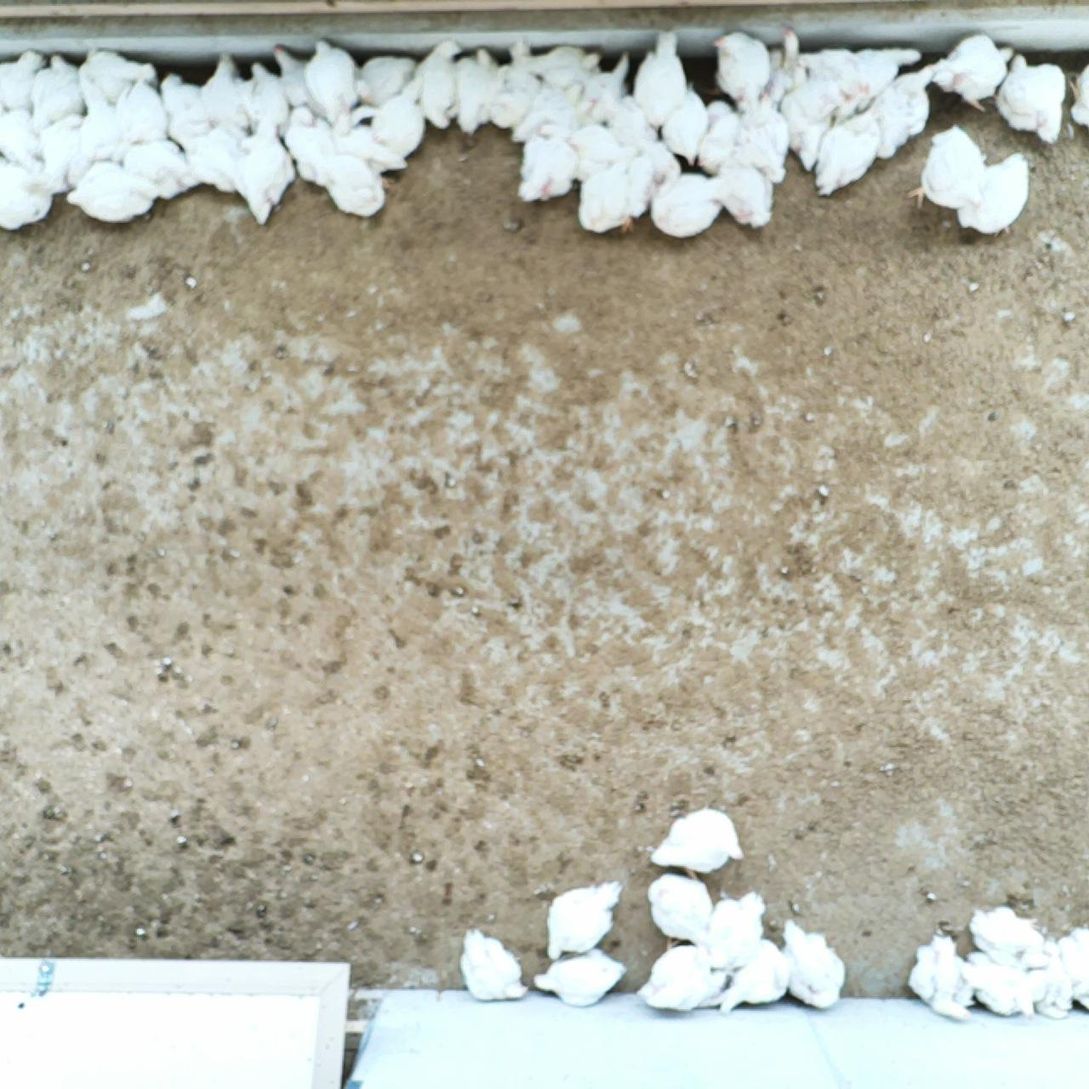chicken: (232, 112, 298, 224), (954, 149, 1034, 241), (928, 34, 1019, 113), (909, 120, 986, 213), (994, 52, 1068, 145), (635, 943, 733, 1013), (774, 918, 848, 1009), (542, 880, 623, 963), (649, 805, 746, 874), (813, 102, 881, 198), (783, 75, 847, 177), (627, 28, 688, 132), (64, 159, 160, 224), (908, 932, 977, 1022), (718, 936, 793, 1015), (514, 122, 583, 207), (532, 946, 626, 1008), (579, 149, 644, 238), (706, 148, 775, 230), (455, 925, 528, 1002), (648, 169, 727, 240), (486, 41, 548, 131), (311, 148, 391, 217), (505, 81, 587, 146), (736, 94, 792, 187), (178, 120, 250, 192), (797, 50, 872, 119), (708, 29, 771, 111), (959, 952, 1037, 1018), (654, 80, 713, 167), (330, 113, 410, 177), (647, 874, 715, 948), (704, 891, 771, 965), (74, 79, 131, 165), (969, 909, 1051, 968), (857, 45, 928, 112), (156, 71, 214, 153), (453, 45, 505, 135), (761, 27, 816, 112), (283, 105, 339, 188), (306, 41, 364, 120), (119, 137, 194, 198), (201, 47, 254, 133), (576, 51, 635, 128), (411, 40, 461, 130), (81, 49, 157, 108), (372, 77, 427, 158), (40, 113, 93, 194), (26, 51, 85, 123), (630, 140, 682, 221), (696, 97, 748, 176), (563, 123, 625, 189), (203, 108, 249, 195), (891, 60, 938, 145), (242, 62, 293, 140), (114, 83, 166, 158), (517, 45, 605, 89), (0, 162, 53, 234), (272, 44, 325, 115), (604, 95, 660, 159), (353, 53, 419, 106), (0, 48, 54, 111), (1034, 940, 1078, 1017), (870, 83, 912, 162), (0, 104, 42, 170), (545, 93, 599, 136), (1053, 924, 1089, 980), (1068, 61, 1089, 128), (1065, 977, 1089, 1012)
